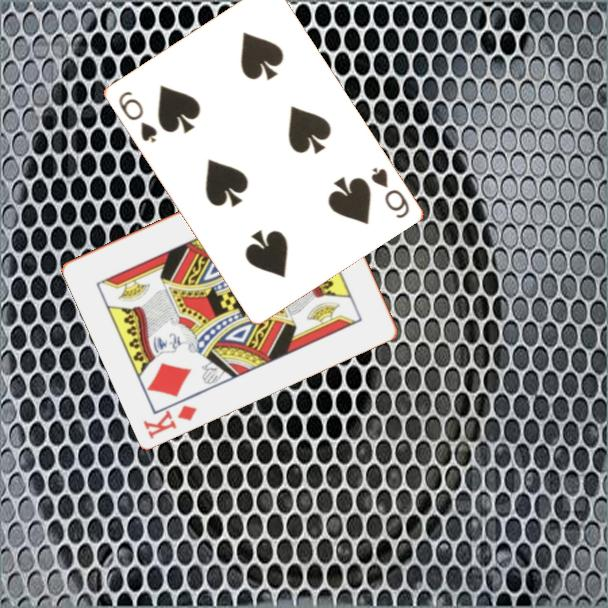d13: (140, 401, 200, 442)
s06: (114, 87, 160, 146), (367, 163, 412, 221)
